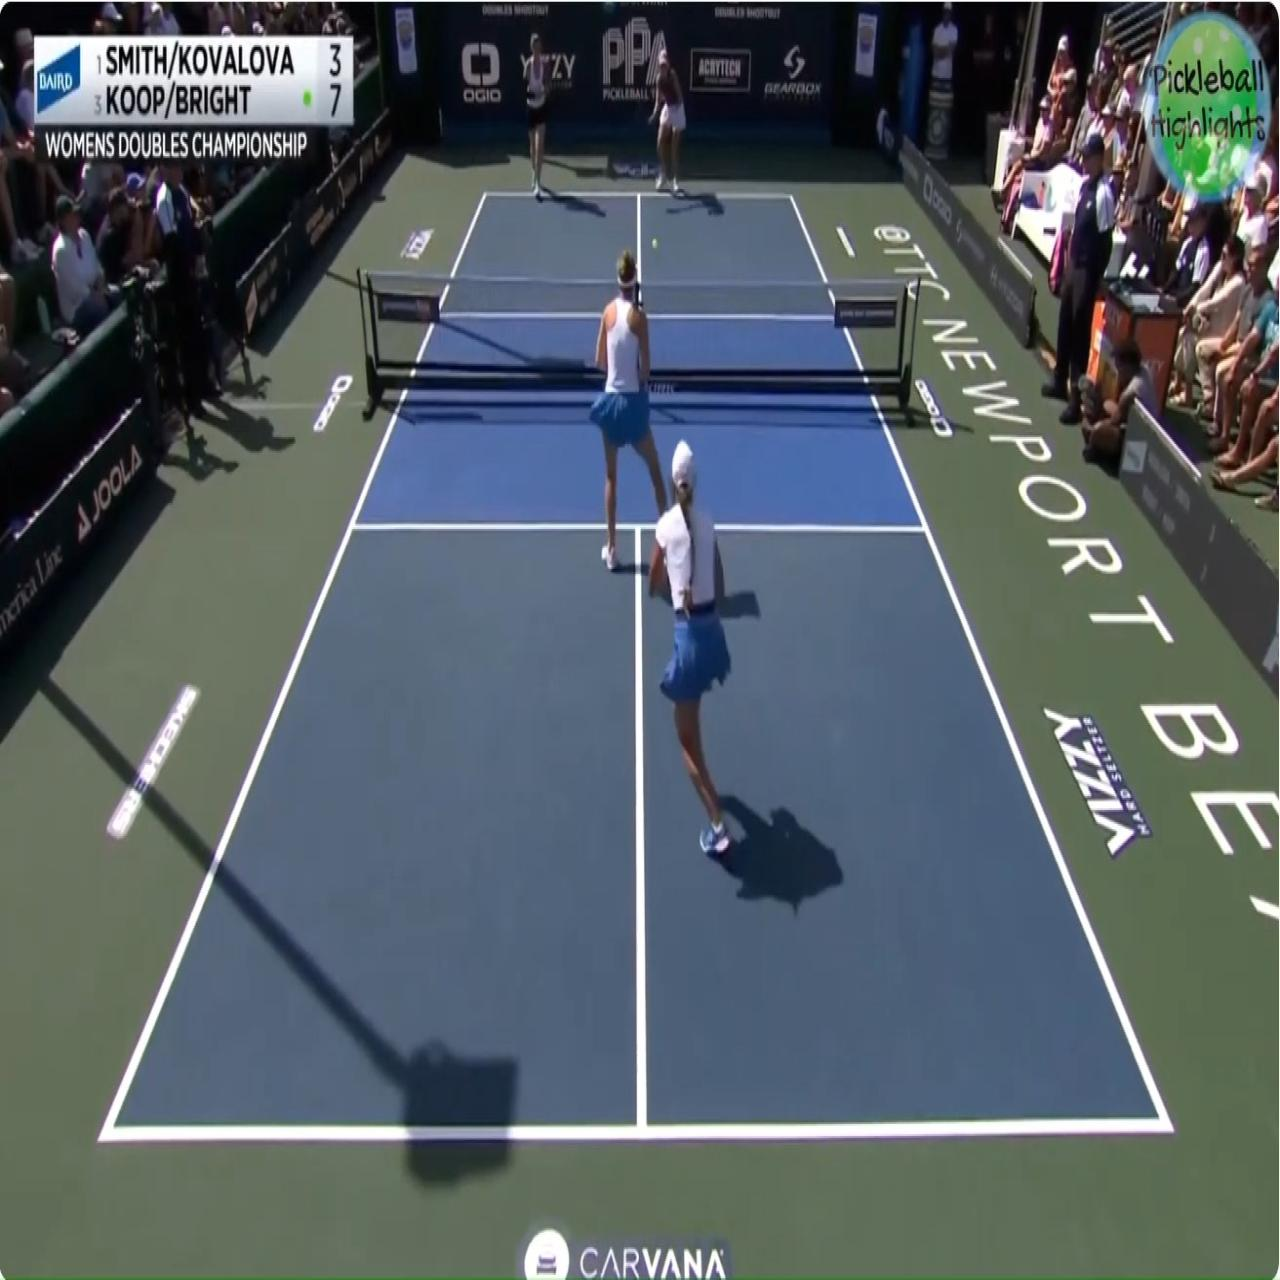pickleball: (651, 238, 658, 248)
